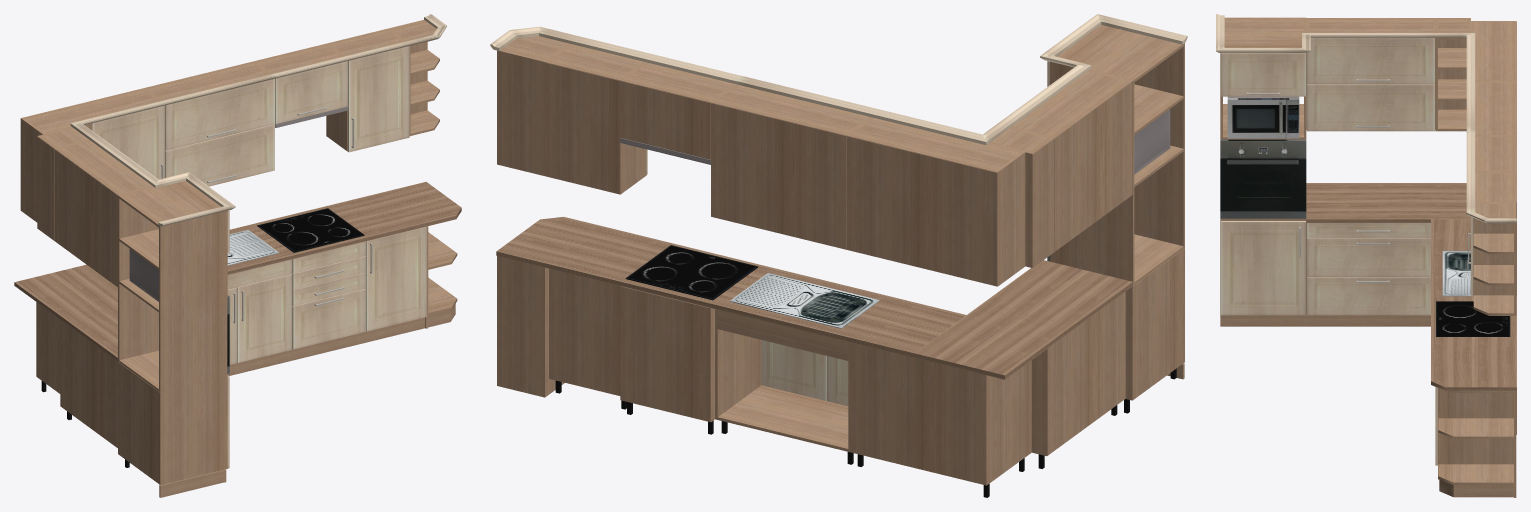
File: kitchen_cabinet_3.glb
The picture shows the model from 3 angles, left to right: view 1: azimuth 30°, elevation 25°; view 2: azimuth 150°, elevation 25°; view 3: azimuth 270°, elevation 25°; orthographic projection. The views are drawn at different scales.
Visible parts, largest first — view 1: Kitchen_cabinet_1objcleanermaterialmergergles; view 2: Kitchen_cabinet_1objcleanermaterialmergergles; view 3: Kitchen_cabinet_1objcleanermaterialmergergles.
Part boxes in pixels (box(x1,y1,x2,y2)): Kitchen_cabinet_1objcleanermaterialmergergles: box(14, 14, 461, 497); Kitchen_cabinet_1objcleanermaterialmergergles: box(490, 14, 1187, 497); Kitchen_cabinet_1objcleanermaterialmergergles: box(1216, 14, 1516, 497).
Bounding box in the file's own units: 4.5 × 2.84 × 2.77.
21 materials, 20 textured.
